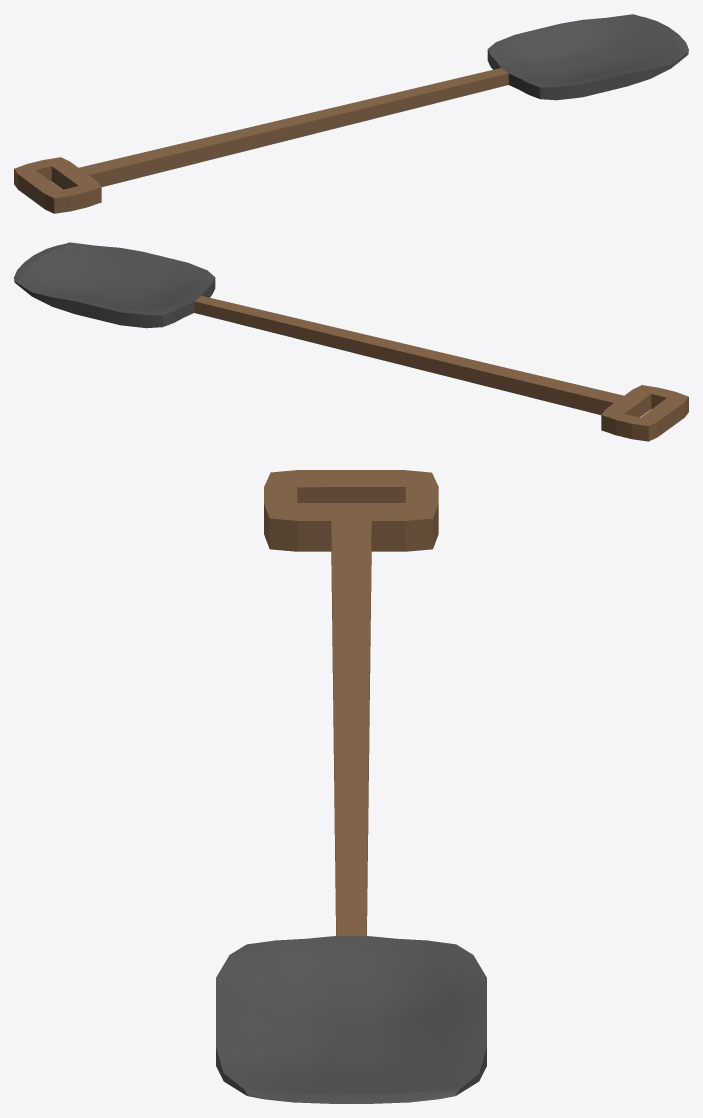
File: Shovel.fbx
3 views of the same model, one above another, from view 1: azimuth 30°, elevation 25°; view 2: azimuth 150°, elevation 25°; view 3: azimuth 270°, elevation 25° (orthographic). The views are drawn at different scales.
Visible parts, largest first — view 1: pCube1; view 2: pCube1; view 3: pCube1.
Part boxes in pixels (left/top/right/bottom): pCube1: left=14, top=14, right=688, bottom=213; pCube1: left=14, top=242, right=688, bottom=441; pCube1: left=216, top=470, right=486, bottom=1103.
Size of the model in its own units: 0.2979 by 0.00684 by 0.0544.
